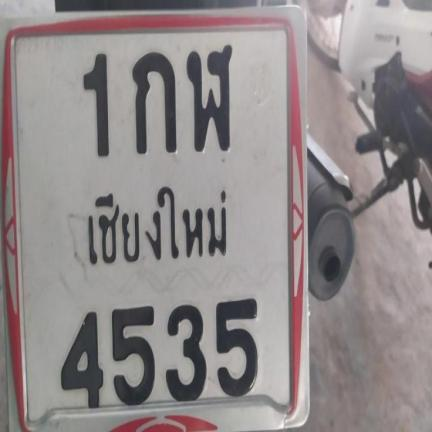1: (62, 48, 118, 156)
3: (161, 302, 208, 403)
4: (51, 303, 107, 411)
5: (107, 306, 160, 407), (212, 299, 264, 399)
A01: (125, 47, 184, 156)
A42: (185, 44, 243, 152)
CMI: (72, 181, 235, 269)
